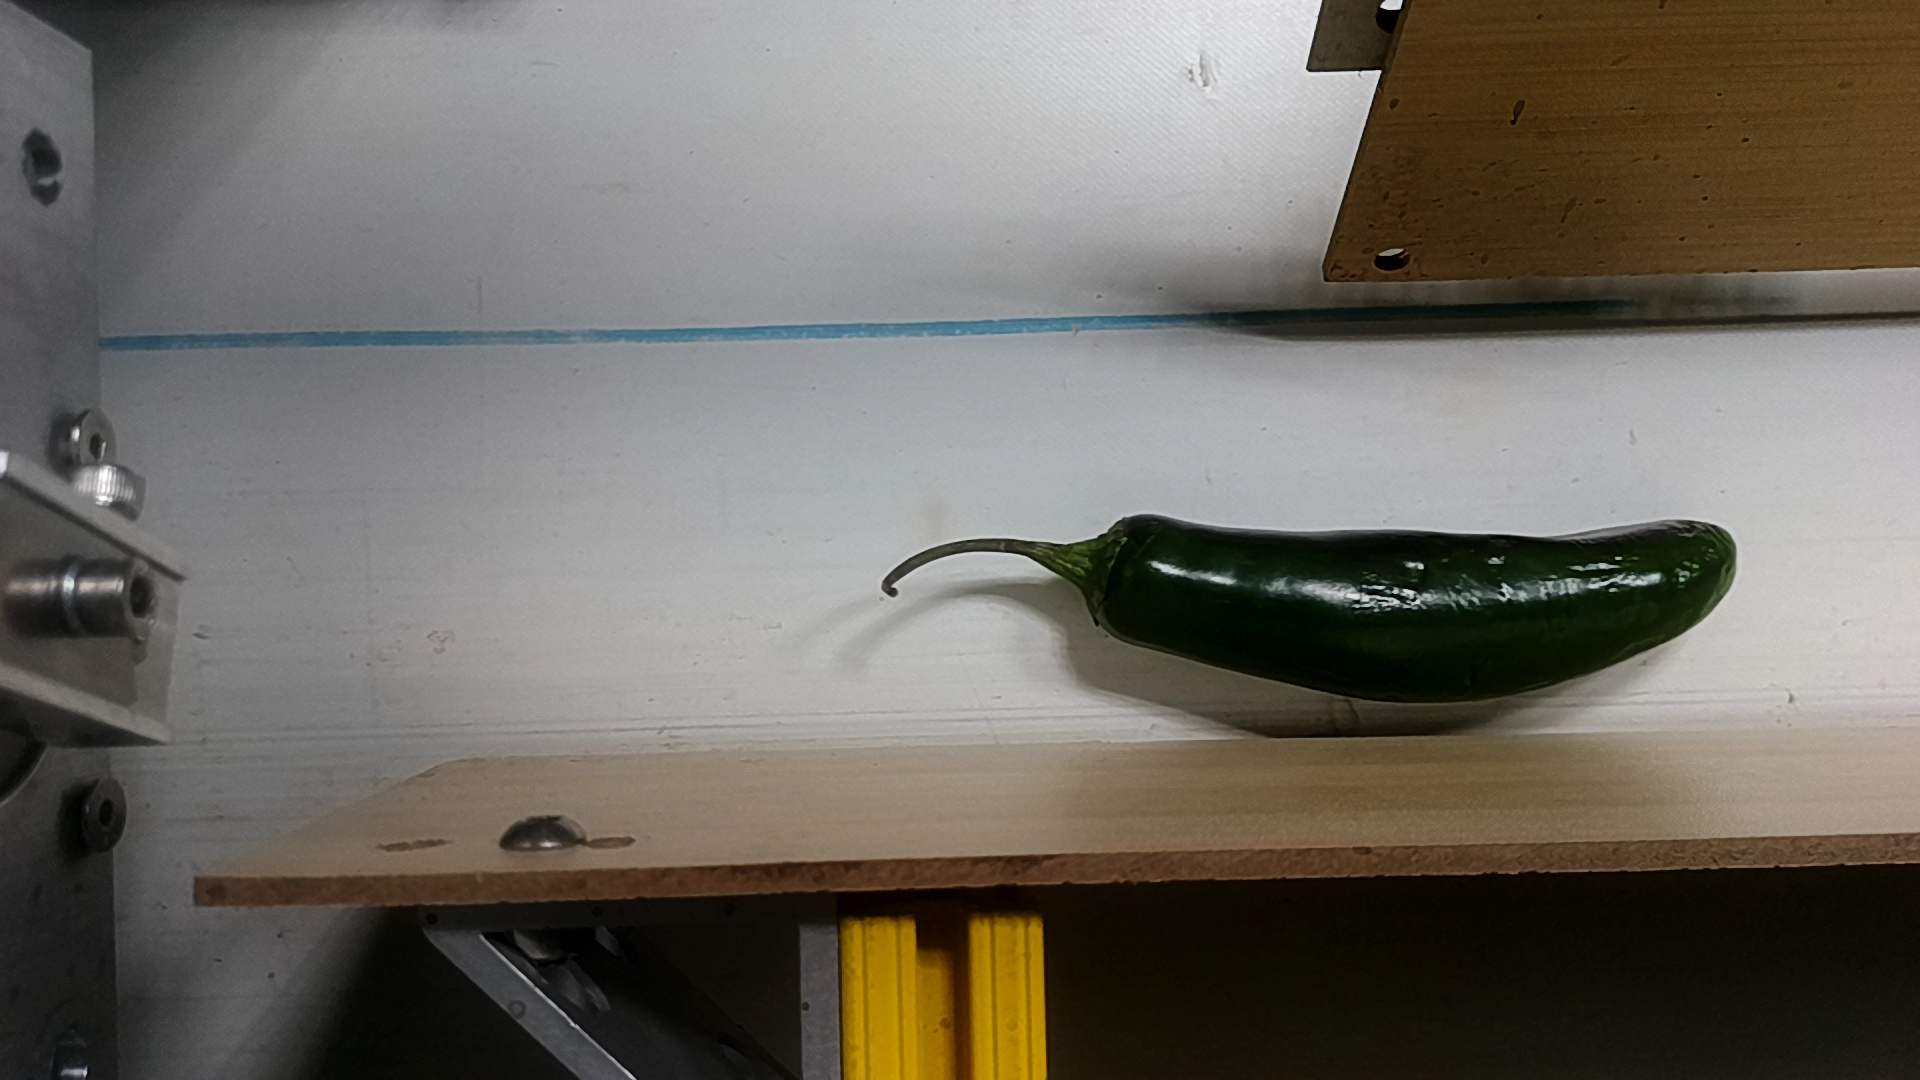Cut Point: (1047, 502, 1178, 641)
